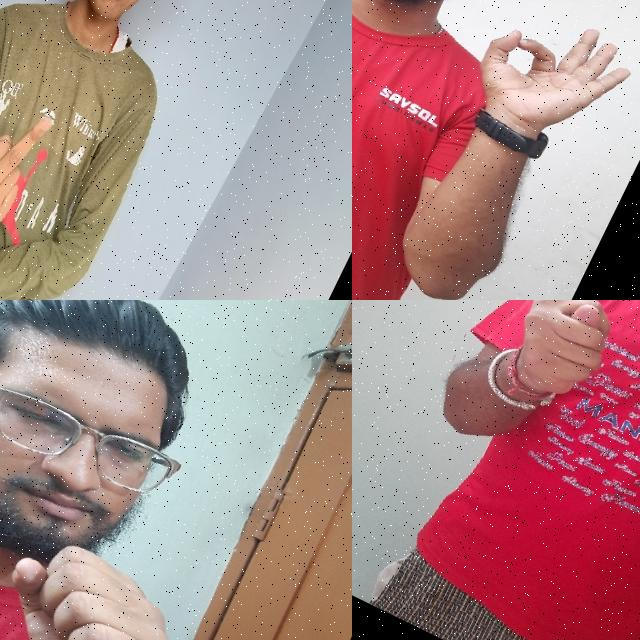Dulya: (472, 300, 638, 436)
Fist Mouth: (0, 300, 321, 640)
Middle Finger: (0, 79, 66, 249)
Okay: (445, 0, 640, 175)
